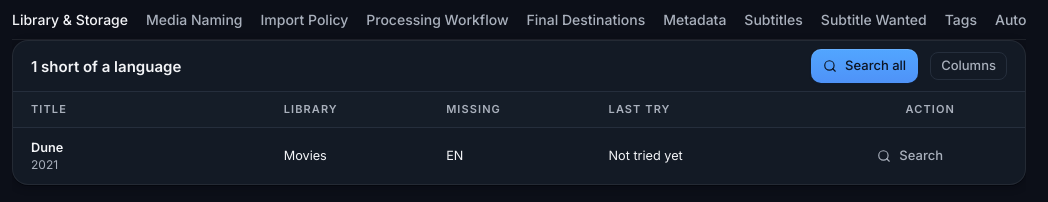
Test case: Subtitle Wanted (low rows) › while a search runs the buttons are disabled
What coordinates should you click on to do the following:
click the button "Search all"
I would click on:
 (865, 66)
Its box is [811,49,918,83].
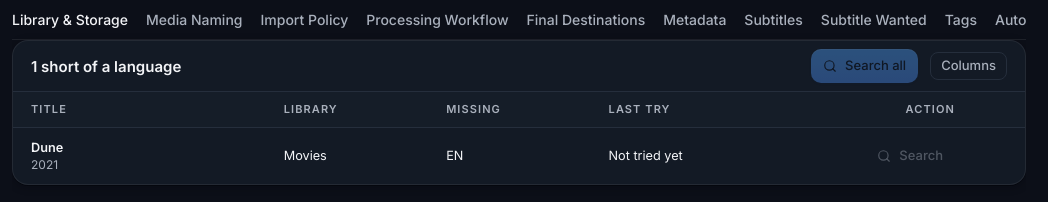
Expected: the button with aria-label "Search subtitles for Dune" is disabled, [865,139,955,173]
